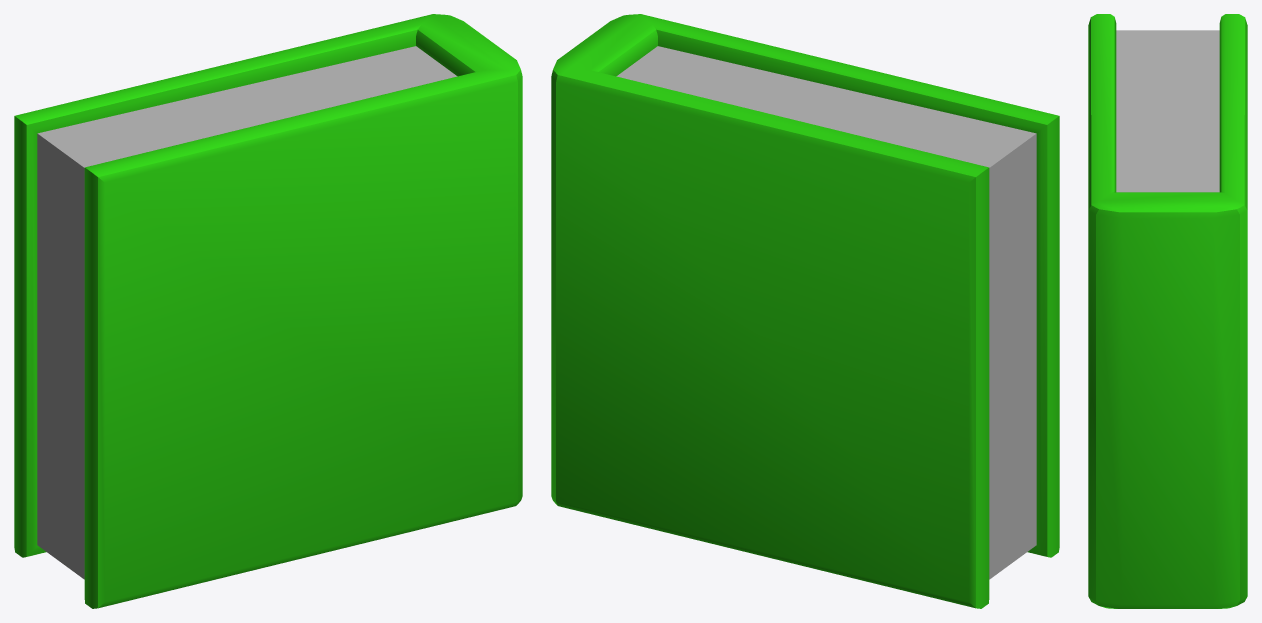
File: book_8.glb
3 renders of one model, left to right at view 1: azimuth 30°, elevation 25°; view 2: azimuth 150°, elevation 25°; view 3: azimuth 270°, elevation 25°, orthographic. The views are drawn at different scales.
Parts seen in each view (by area): view 1: Cube.025; view 2: Cube.025; view 3: Cube.025.
Part boxes in pixels (left/top/right/bottom): Cube.025: left=14, top=14, right=522, bottom=608; Cube.025: left=551, top=14, right=1059, bottom=608; Cube.025: left=1088, top=14, right=1247, bottom=608.
Size of the model in its own units: 0.1323 by 0.1257 by 0.0452.
Materials: 1 (1 with a texture image).
